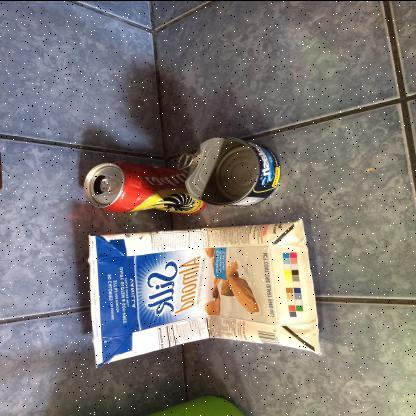cardboard: (91, 218, 323, 368)
metal: (176, 136, 282, 207), (85, 160, 209, 214)
